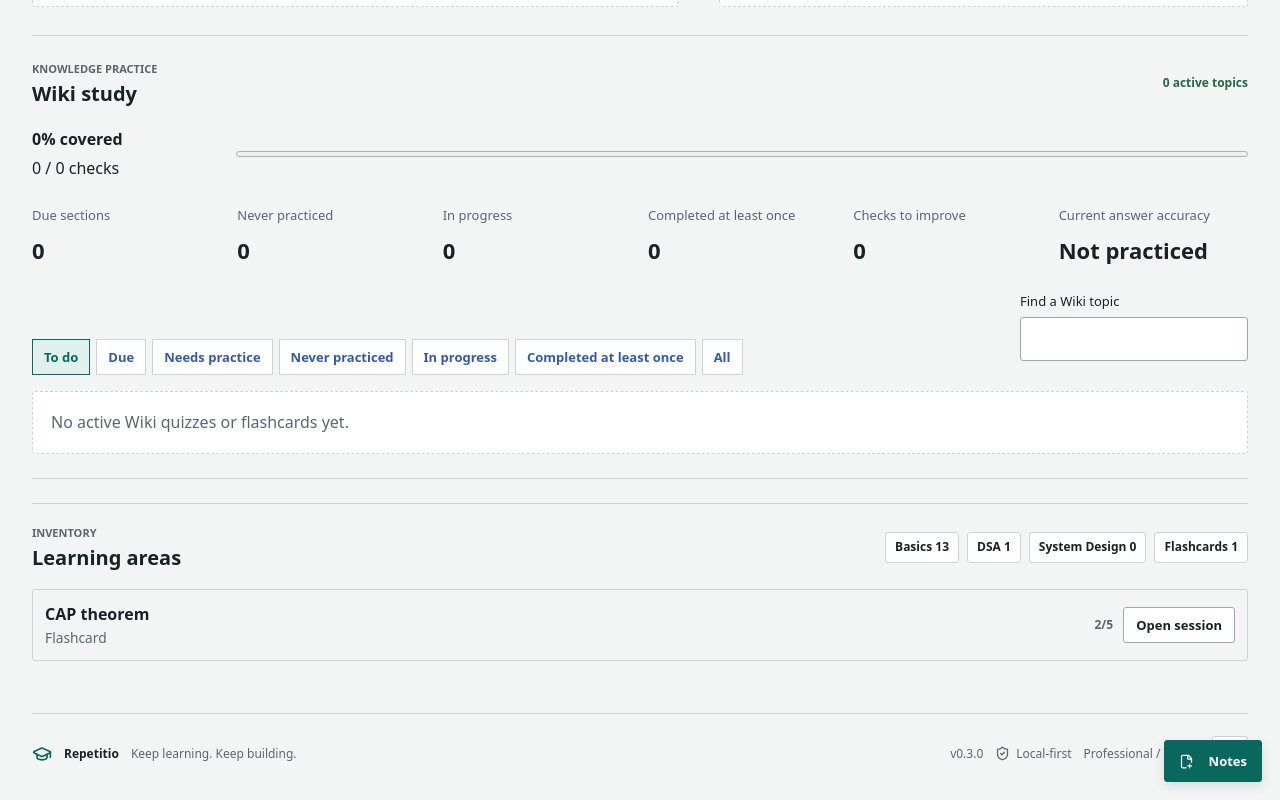
Test: App › opens a due flashcard through its learning session from Overview
(page scrolled)
Expected: the text "CAP theorem" is shown, [45, 602, 149, 627]
Step 1. Click the button "Open session" → (1179, 625), box [1123, 607, 1235, 643]
(page scrolled)
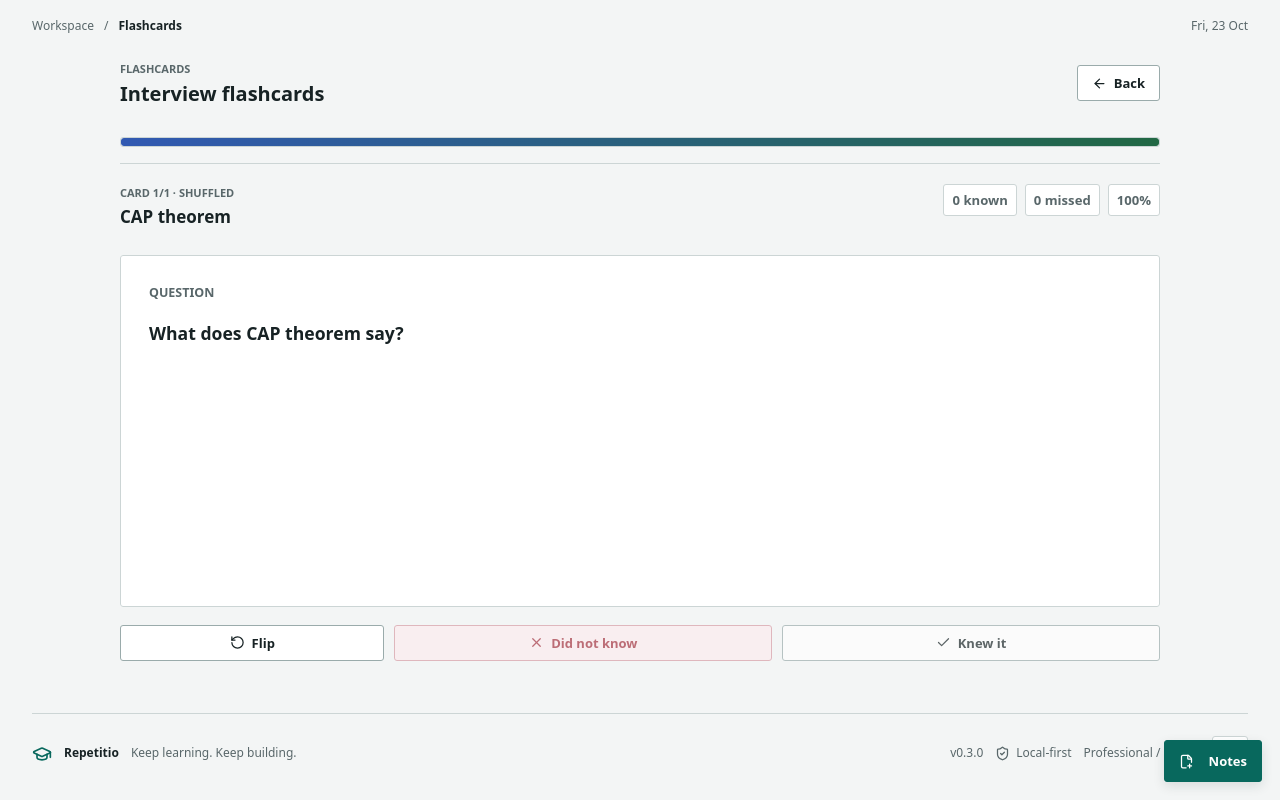
Expected: the heading "CAP theorem" is shown, [120, 205, 234, 229]
Expected: the button "Flip" is shown, [120, 625, 384, 661]
